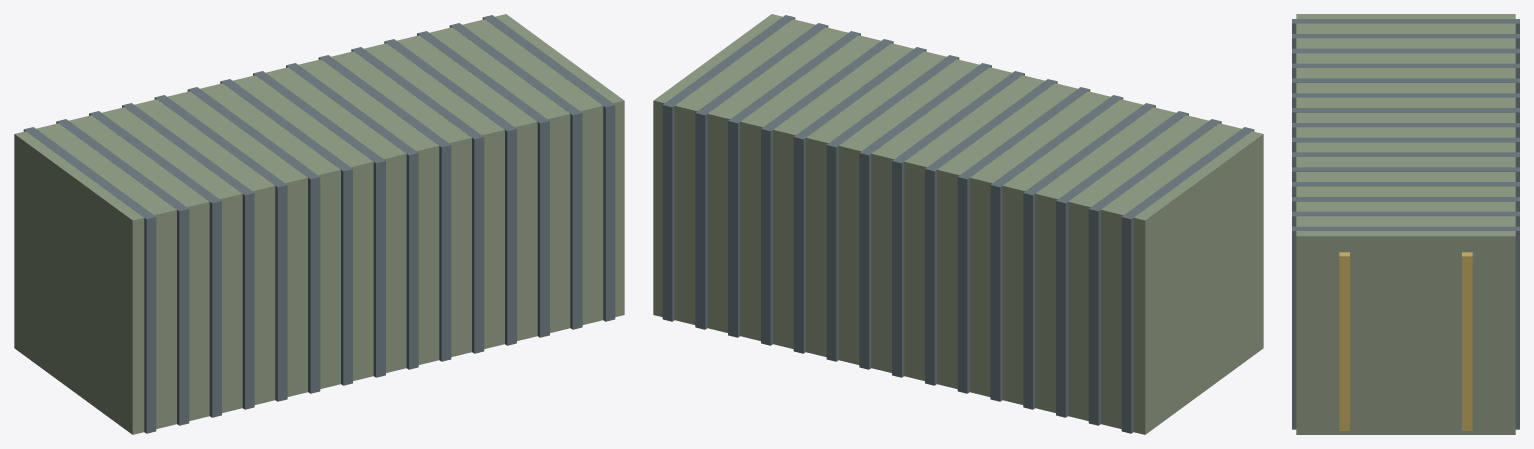
The model's file is ShippingContainerBarricade.glb.
The picture shows the model from 3 angles, left to right: view 1: azimuth 30°, elevation 25°; view 2: azimuth 150°, elevation 25°; view 3: azimuth 270°, elevation 25°; orthographic projection. The views are drawn at different scales.
Parts seen in each view (by area): view 1: shipping-container-barricade; view 2: shipping-container-barricade; view 3: shipping-container-barricade.
Boxes of the visible parts, x1,y1,x2,y2 form: shipping-container-barricade: (14, 14, 624, 434); shipping-container-barricade: (653, 14, 1263, 434); shipping-container-barricade: (1292, 14, 1519, 434).
Size of the model in its own units: 6.11 by 2.5 by 2.6.
